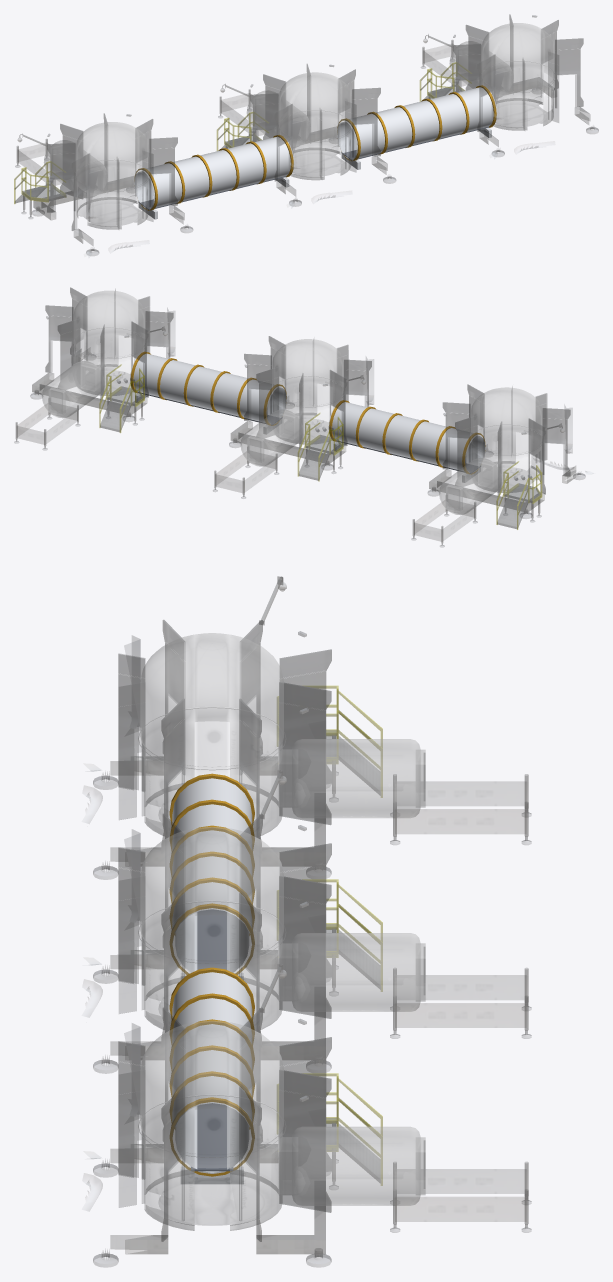
The model's file is hdu_complex.glb.
3 renders of one model, top to bottom at view 1: azimuth 30°, elevation 25°; view 2: azimuth 150°, elevation 25°; view 3: azimuth 270°, elevation 25°, orthographic. The views are drawn at different scales.
Visible parts, largest first — view 1: C_greenhouse_frame, B_lab_frame, A_habitat_frame, C_greenhouse_shell, B_lab_shell, A_habitat_shell, tunnel_C_A, tunnel_A_B; view 2: C_greenhouse_frame, B_lab_frame, A_habitat_frame, C_greenhouse_shell, A_habitat_shell, B_lab_shell, tunnel_A_B, tunnel_C_A; view 3: B_lab_shell, B_lab_frame, C_greenhouse_frame, A_habitat_frame, C_greenhouse_shell, A_habitat_shell, tunnel_A_B, tunnel_C_A.
Boxes of the visible parts, <box> form: C_greenhouse_frame: <box>14,113,192,257</box>; B_lab_frame: <box>420,14,598,158</box>; A_habitat_frame: <box>217,64,395,208</box>; C_greenhouse_shell: <box>44,122,148,229</box>; B_lab_shell: <box>449,23,554,130</box>; A_habitat_shell: <box>247,72,351,179</box>; tunnel_C_A: <box>134,135,294,219</box>; tunnel_A_B: <box>337,85,497,169</box>; C_greenhouse_frame: <box>411,384,593,547</box>; B_lab_frame: <box>14,287,175,450</box>; A_habitat_frame: <box>213,336,373,498</box>; C_greenhouse_shell: <box>439,387,542,514</box>; A_habitat_shell: <box>240,339,343,466</box>; B_lab_shell: <box>42,291,144,417</box>; tunnel_A_B: <box>130,351,286,434</box>; tunnel_C_A: <box>328,400,485,482</box>; B_lab_shell: <box>133,1021,425,1230</box>; B_lab_frame: <box>82,964,531,1267</box>; C_greenhouse_frame: <box>82,576,531,879</box>; A_habitat_frame: <box>82,770,531,1073</box>; C_greenhouse_shell: <box>133,633,425,836</box>; A_habitat_shell: <box>133,827,425,1030</box>; tunnel_A_B: <box>169,967,254,1184</box>; tunnel_C_A: <box>169,773,254,979</box>.
Bounding box in the file's own units: 34.32 × 5.83 × 12.76.
Materials: 6 (2 with a texture image).
